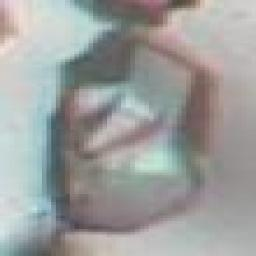crystals: (43, 25, 207, 229)
